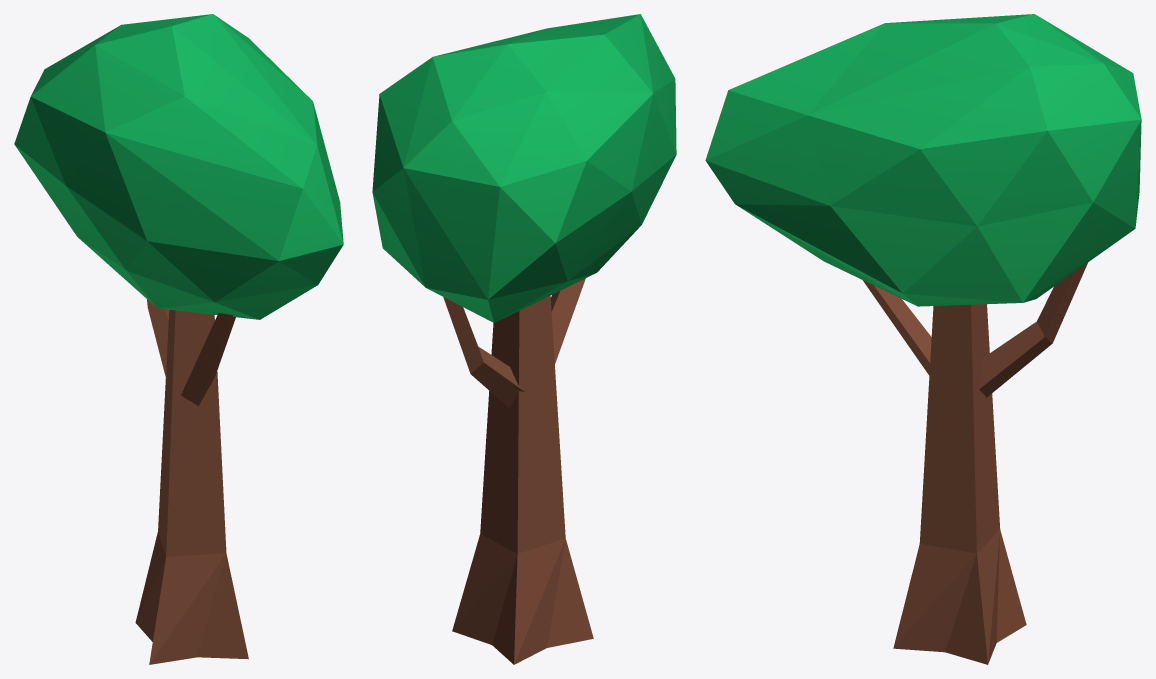
The model's file is Tree_37_gradient_green_vc.fbx.
3 views of the same model, side by side, from view 1: azimuth 30°, elevation 25°; view 2: azimuth 150°, elevation 25°; view 3: azimuth 270°, elevation 25° (orthographic).
Visible parts, largest first — view 1: Tree_37_gradient_green_vc; view 2: Tree_37_gradient_green_vc; view 3: Tree_37_gradient_green_vc.
Boxes of the visible parts, <box> form: Tree_37_gradient_green_vc: <box>14,14,343,664</box>; Tree_37_gradient_green_vc: <box>372,14,676,664</box>; Tree_37_gradient_green_vc: <box>705,14,1141,664</box>.
Bounding box in the file's own units: 93.74 × 233 × 151.
